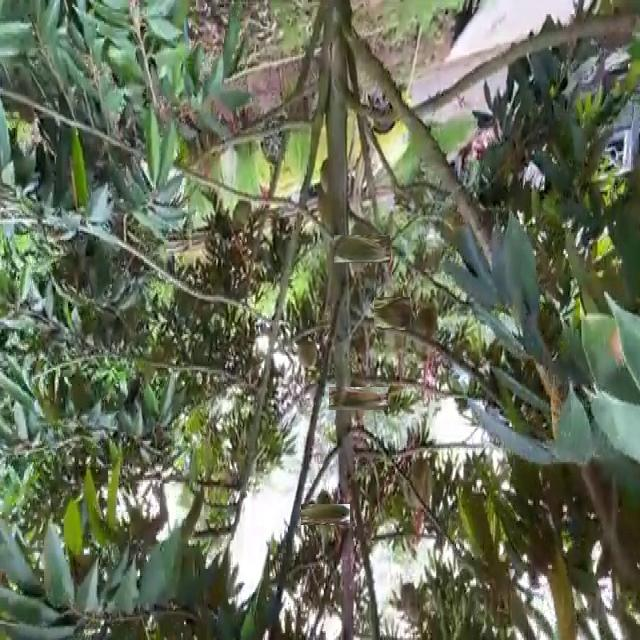durian: (410, 296, 441, 362), (341, 227, 384, 270), (338, 377, 379, 419), (377, 293, 418, 334), (308, 497, 344, 532), (296, 336, 319, 372)
